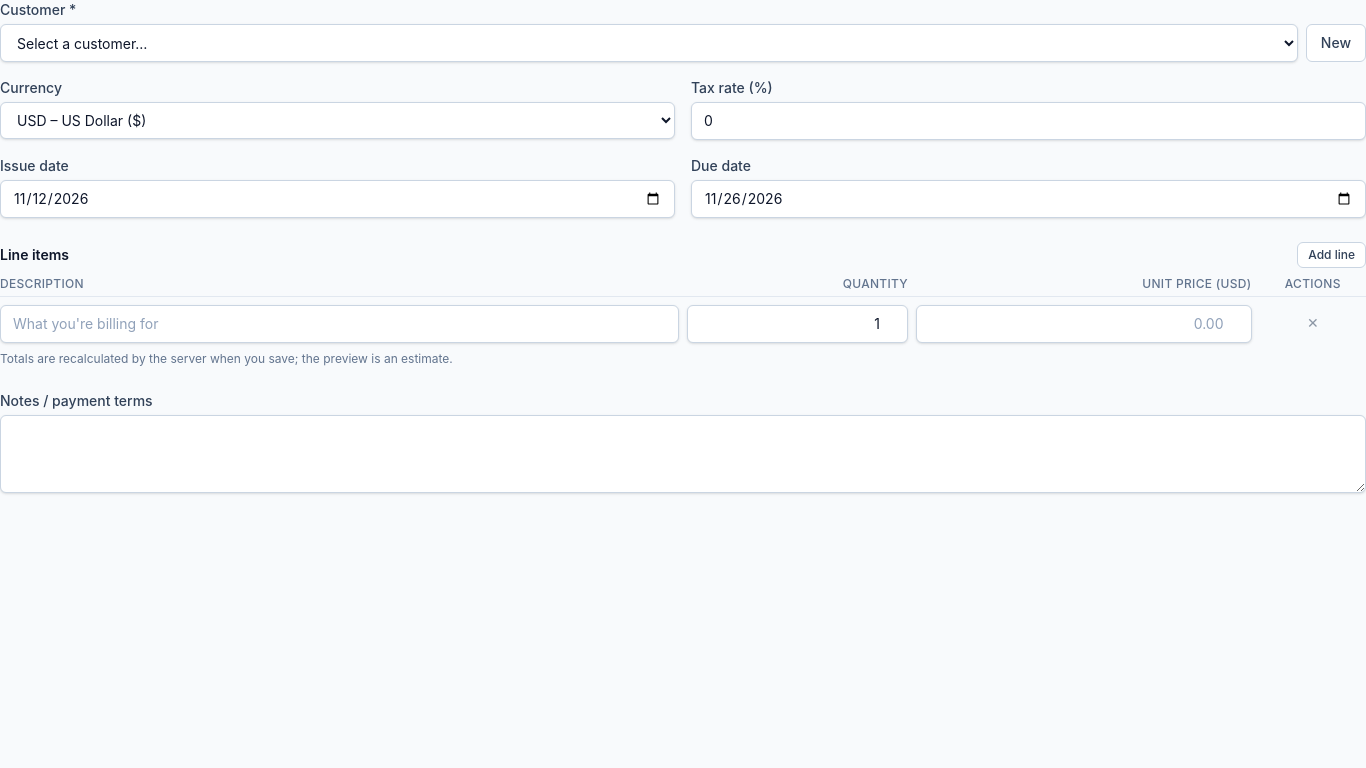
Scenario: InvoiceEditor › makes a customer created in the dialog immediately selectable without submitting the invoice
The width and height of the screenshot is (1366, 768).
Step 1. Click the button "New" → [1336, 43], box [1306, 24, 1365, 62]
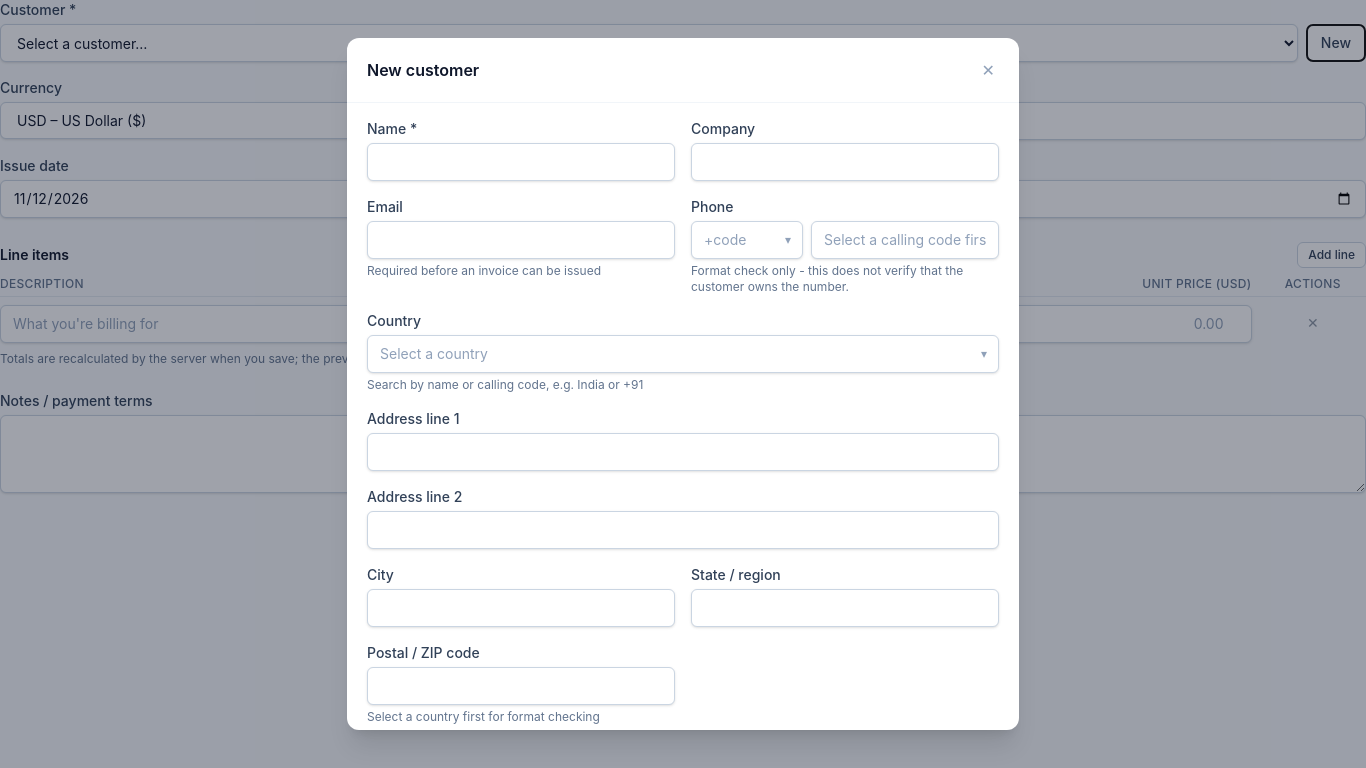
Step 2. Type "Acme" into the field labelled "Name *" → [521, 162], box [367, 143, 675, 181]
(page scrolled)
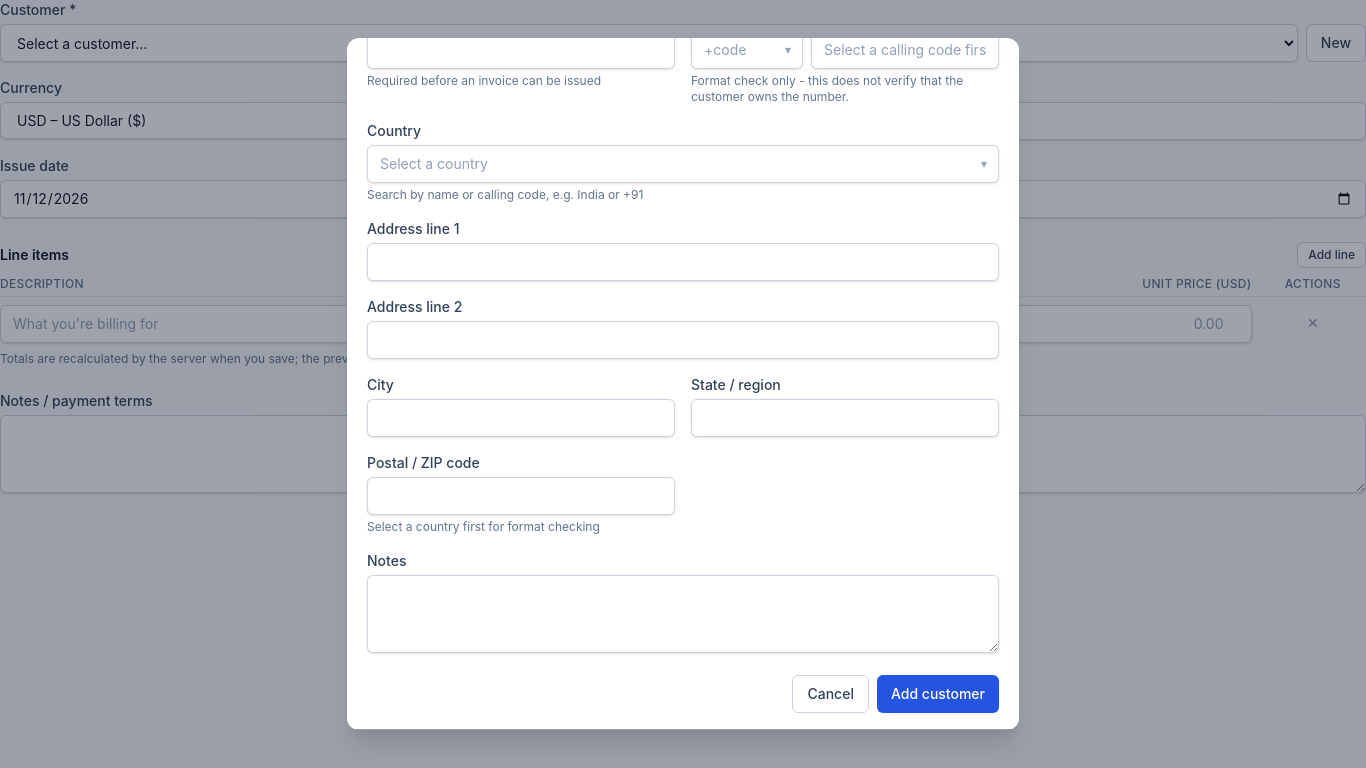
Step 3. Click the button "Add customer" → [938, 694], box [877, 675, 999, 713]
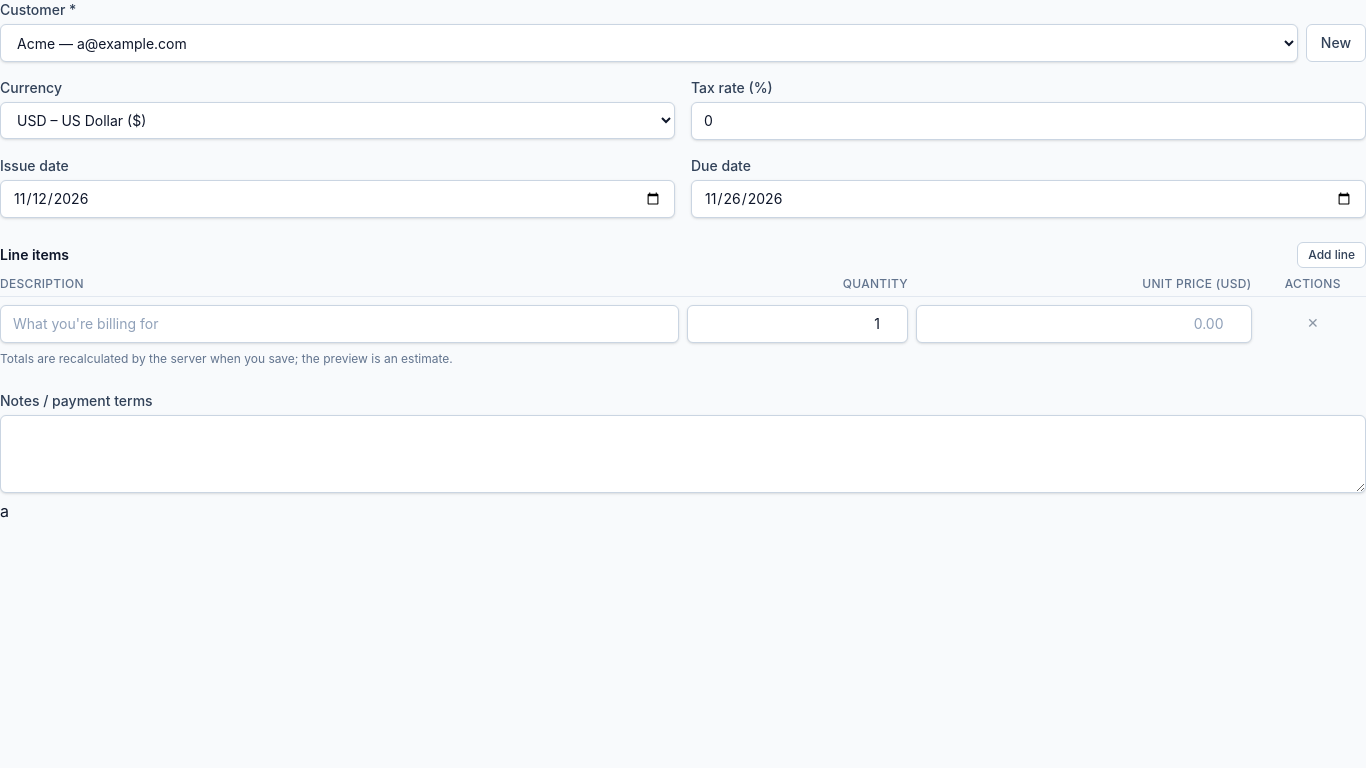
Check: the text with test id "selected" reads "a", box [0, 501, 9, 521]
Check: the dialog is gone
Check: the dropdown labelled "Customer *" shows "Acme — a@example.com", box [0, 24, 1298, 62]
